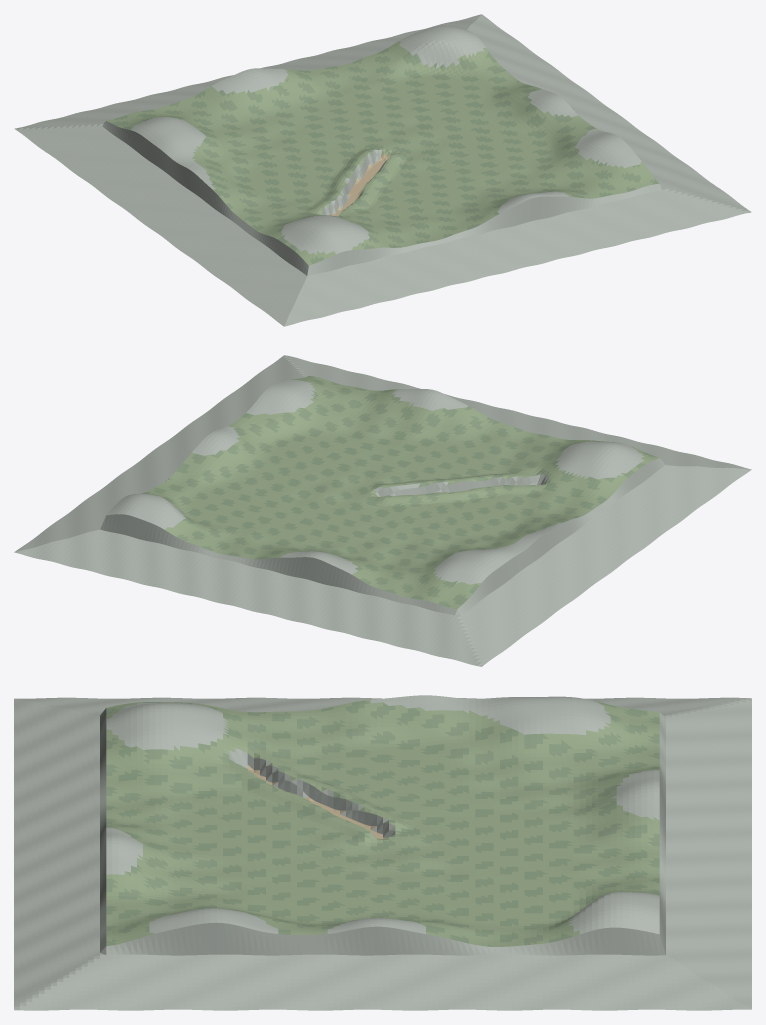
File: SM_IslandReliefV5.fbx
3 views of the same model, one above another, from view 1: azimuth 30°, elevation 25°; view 2: azimuth 150°, elevation 25°; view 3: azimuth 270°, elevation 25° (orthographic). The views are drawn at different scales.
Visible parts, largest first — view 1: SM_IslandReliefV5; view 2: SM_IslandReliefV5; view 3: SM_IslandReliefV5.
Boxes of the visible parts, box(x1,y1,x2,y2) form: SM_IslandReliefV5: box(14, 14, 751, 326); SM_IslandReliefV5: box(14, 355, 751, 666); SM_IslandReliefV5: box(14, 695, 751, 1010).
Bounding box in the file's own units: 34 × 34 × 2.67.
